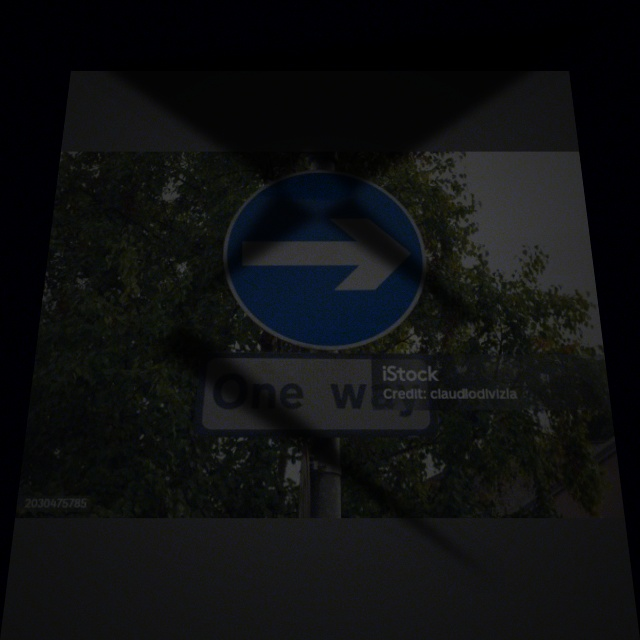Compulsory_Turn_Right: (219, 168, 433, 351)
